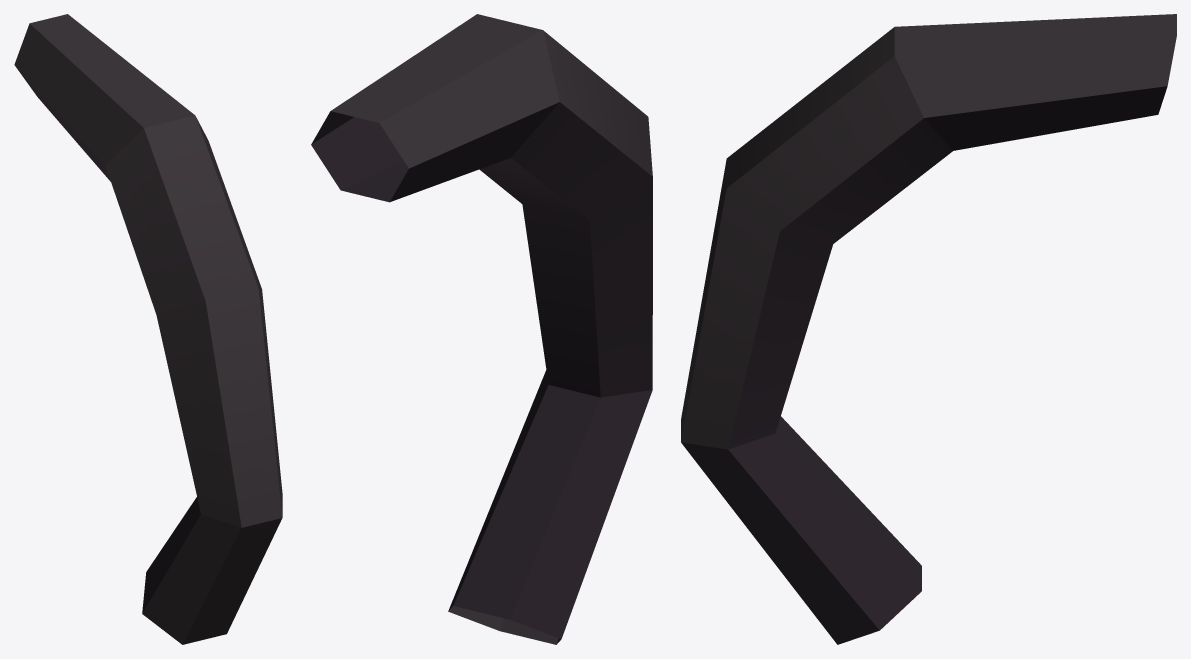
Rendered from дек8.fbx.
3 views of the same model, side by side, from view 1: azimuth 30°, elevation 25°; view 2: azimuth 150°, elevation 25°; view 3: azimuth 270°, elevation 25° (orthographic). The views are drawn at different scales.
Visible parts, largest first — view 1: pCylinder20; view 2: pCylinder20; view 3: pCylinder20.
Part boxes in pixels (x1=…): pCylinder20: x1=14, y1=14, x2=282, y2=644; pCylinder20: x1=311, y1=14, x2=652, y2=644; pCylinder20: x1=681, y1=14, x2=1176, y2=644.
Bounding box in the file's own units: 0.3939 × 1.66 × 1.24.
